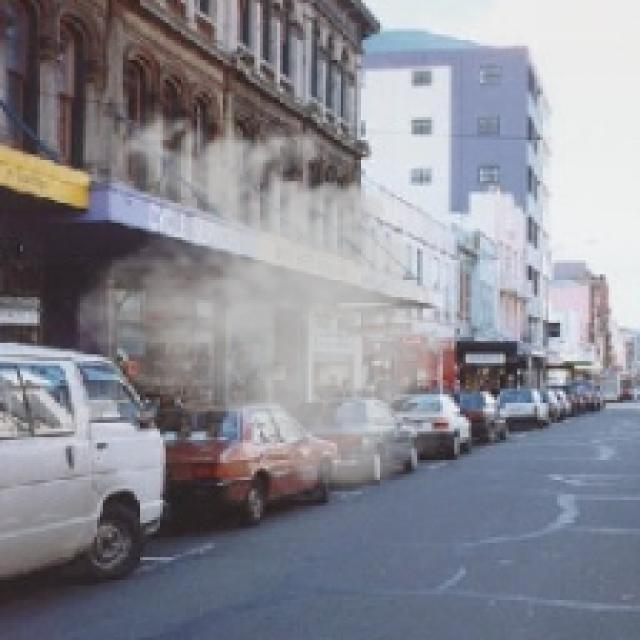Smoke: (74, 102, 472, 498)
